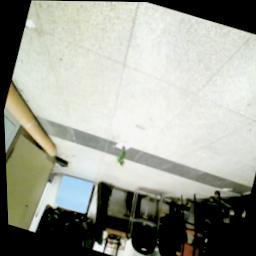herb: (113, 143, 132, 169)
